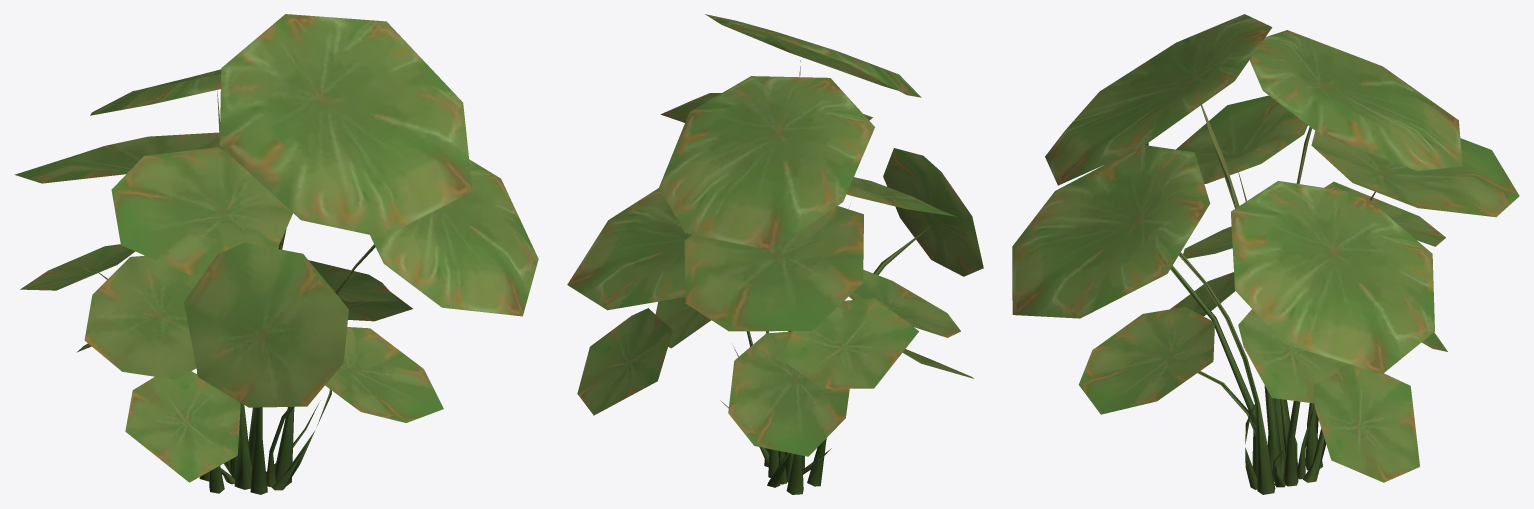
File: jungle-fan-plant.lod0.glb
3 renders of one model, left to right at view 1: azimuth 30°, elevation 25°; view 2: azimuth 150°, elevation 25°; view 3: azimuth 270°, elevation 25°, orthographic. The views are drawn at different scales.
Visible parts, largest first — view 1: SM_JunglePlants_FanPlant_A_LOD0.mo_MI_JunglePlants_FanPlant_; view 2: SM_JunglePlants_FanPlant_A_LOD0.mo_MI_JunglePlants_FanPlant_; view 3: SM_JunglePlants_FanPlant_A_LOD0.mo_MI_JunglePlants_FanPlant_.
Part boxes in pixels (x1=…): SM_JunglePlants_FanPlant_A_LOD0.mo_MI_JunglePlants_FanPlant_: x1=14, y1=14, x2=538, y2=494; SM_JunglePlants_FanPlant_A_LOD0.mo_MI_JunglePlants_FanPlant_: x1=567, y1=14, x2=983, y2=494; SM_JunglePlants_FanPlant_A_LOD0.mo_MI_JunglePlants_FanPlant_: x1=1012, y1=14, x2=1519, y2=494.
Size of the model in its own units: 1.79 by 2.2 by 2.16.
1 material, 1 textured.
